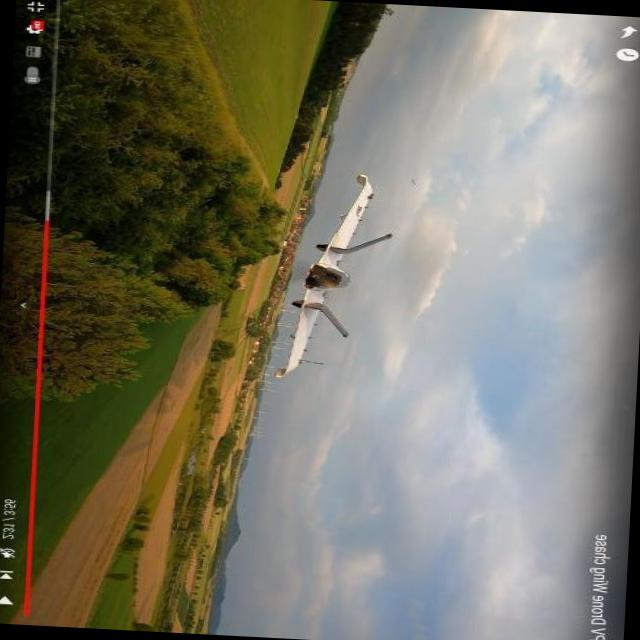UAV: (255, 164, 386, 392)
